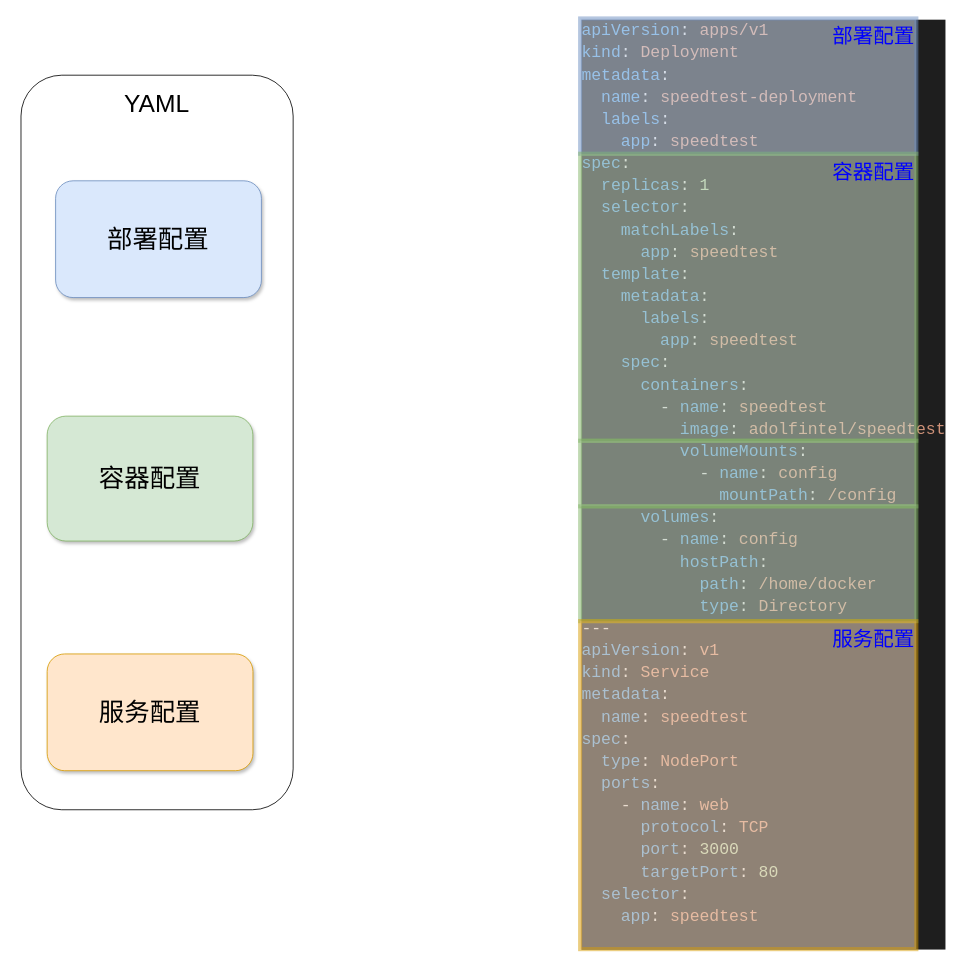
The diagram is 959 pixels wide and 971 high, and some of its shapes have lost their labels. The centre of each missing label's shape, as x and y in pixels:
使用文件共享: [748,473]
设置文件共享: [748,563]
